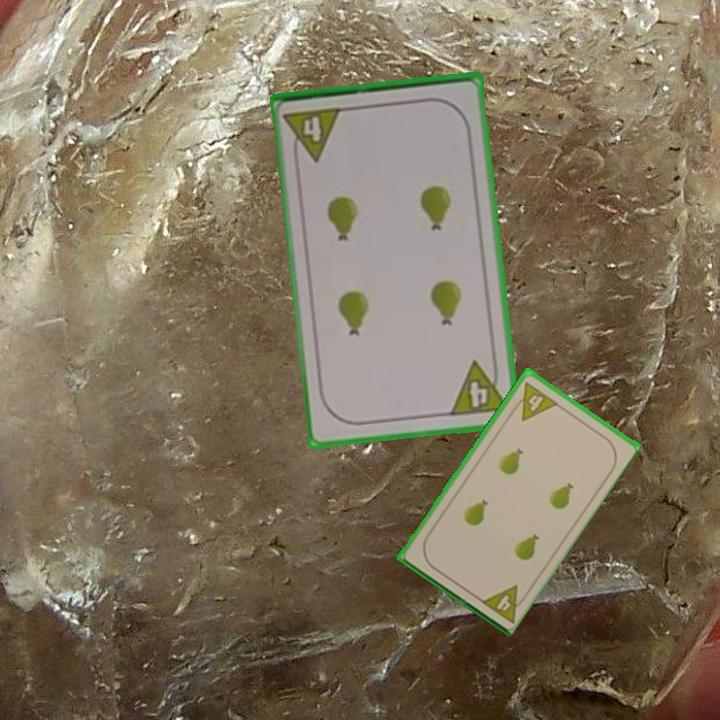4p: (446, 355, 511, 419), (280, 104, 345, 166), (476, 581, 531, 625), (508, 378, 560, 423)
